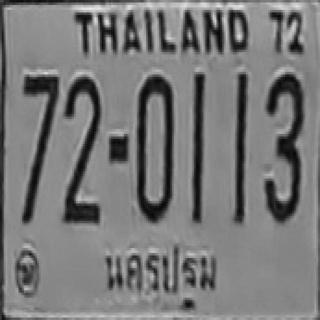N00: (135, 73, 172, 219)
N01: (234, 71, 247, 205), (192, 72, 204, 204), (235, 71, 246, 192)
N02: (61, 96, 100, 222), (63, 76, 100, 205)
N03: (263, 71, 303, 219)
N07: (19, 73, 58, 222), (22, 74, 59, 216), (22, 73, 59, 180), (22, 73, 59, 162)
P28: (100, 242, 222, 317)
